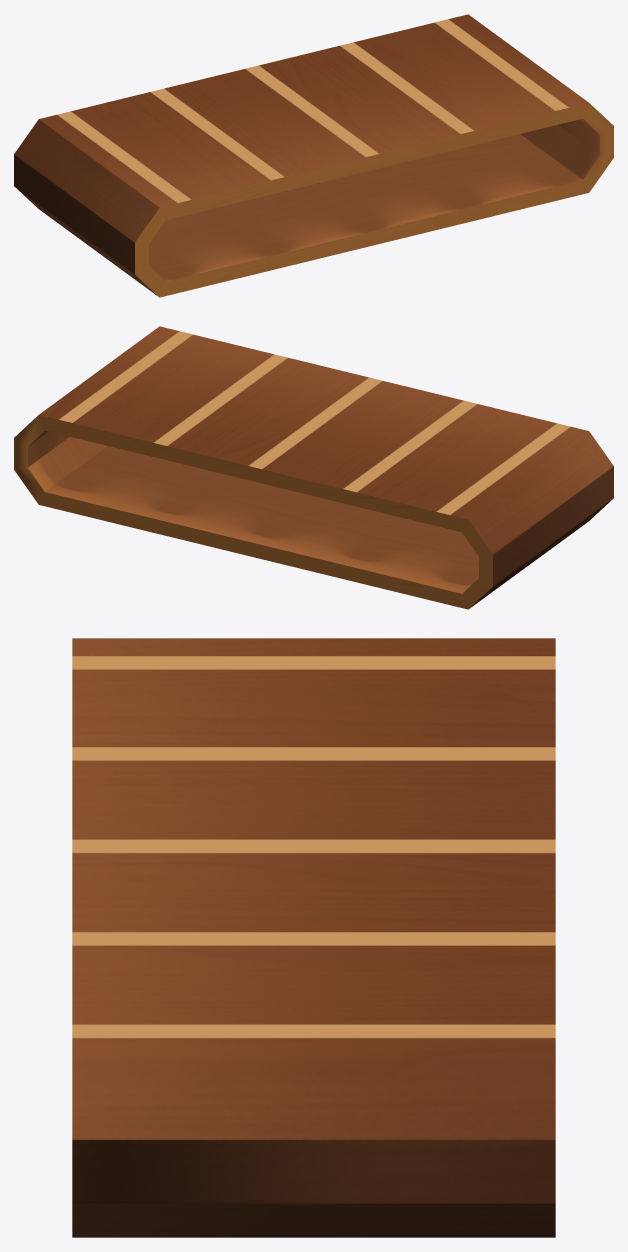
File: jiasu01.FBX
3 views of the same model, one above another, from view 1: azimuth 30°, elevation 25°; view 2: azimuth 150°, elevation 25°; view 3: azimuth 270°, elevation 25° (orthographic). The views are drawn at different scales.
Parts seen in each view (by area): view 1: Object01; view 2: Object01; view 3: Object01.
Boxes of the visible parts, x1,y1,x2,y2 form: Object01: (14, 14, 613, 297); Object01: (14, 326, 613, 609); Object01: (72, 638, 555, 1237).
Size of the model in its own units: 16.02 by 2.88 by 7.
